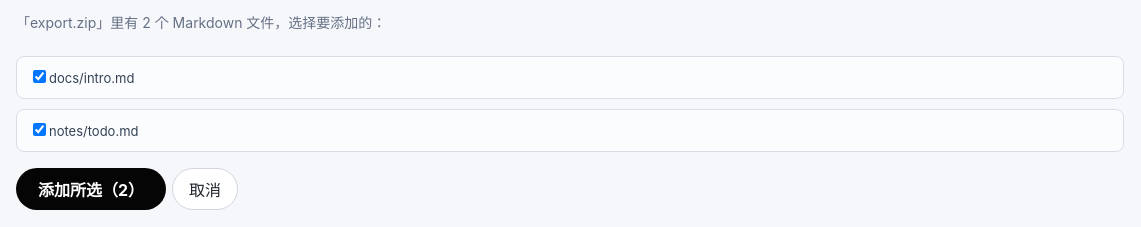
Test: BundleChoicePanel › 取消勾选到零时确认按钮禁用，不能提交空选择
Click the checkbox labelled "docs/intro.md" at (40,77), box [33,70,46,83]
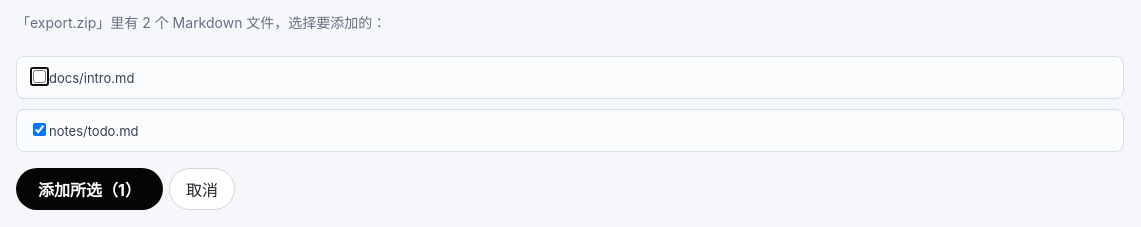
Click the checkbox labelled "notes/todo.md" at (40,130), box [33,123,46,136]
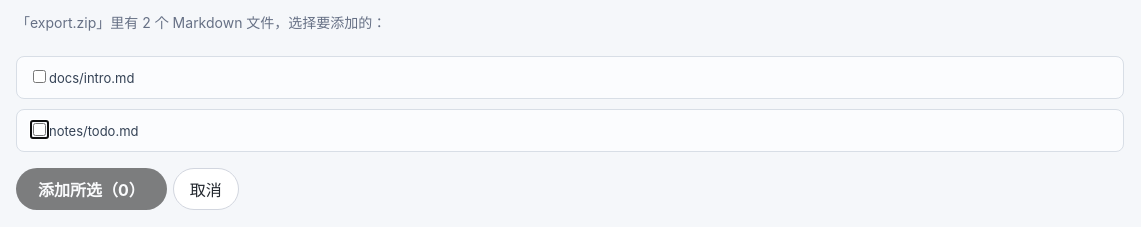
Expected: the button "添加所选（0）" is disabled, [16,168,167,210]
